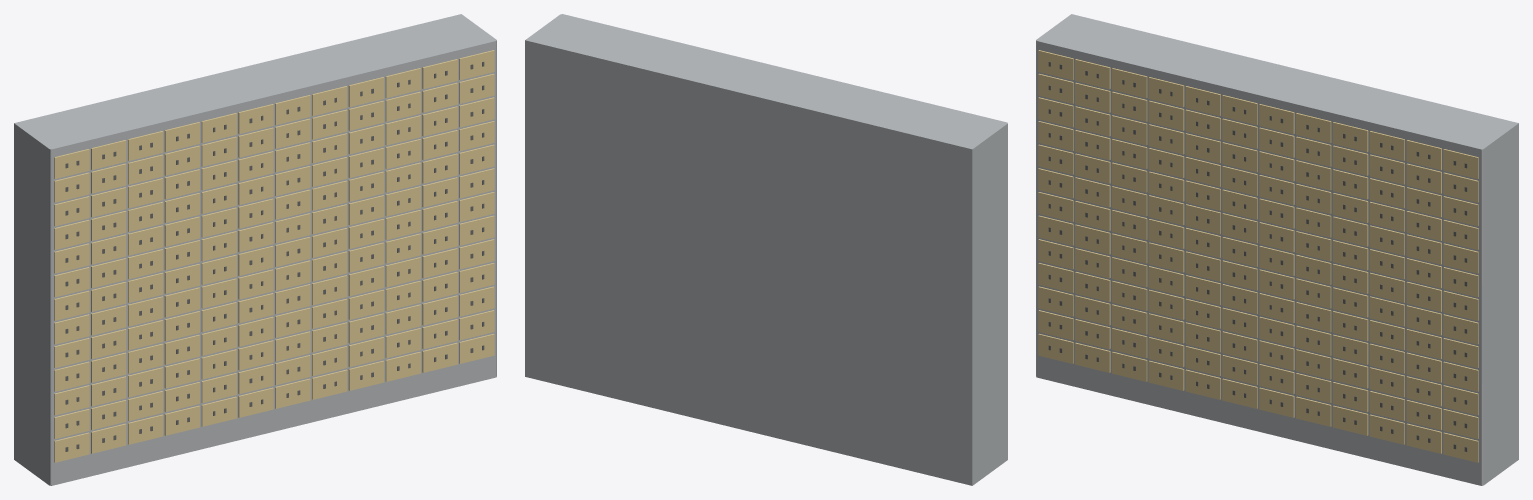
File: deposit_boxes.glb
3 renders of one model, left to right at view 1: azimuth 30°, elevation 25°; view 2: azimuth 150°, elevation 25°; view 3: azimuth 330°, elevation 25°, orthographic.
Visible parts, largest first — view 1: deposit_boxes_brass, deposit_boxes_vault, deposit_boxes_dark; view 2: deposit_boxes_vault; view 3: deposit_boxes_brass, deposit_boxes_vault, deposit_boxes_dark.
Part boxes in pixels (x1=…): deposit_boxes_brass: x1=54, y1=50, x2=494, y2=462; deposit_boxes_vault: x1=14, y1=14, x2=496, y2=485; deposit_boxes_dark: x1=65, y1=61, x2=484, y2=451; deposit_boxes_vault: x1=525, y1=14, x2=1007, y2=485; deposit_boxes_brass: x1=1038, y1=50, x2=1478, y2=462; deposit_boxes_vault: x1=1036, y1=14, x2=1518, y2=485; deposit_boxes_dark: x1=1048, y1=61, x2=1467, y2=451.
Bounding box in the file's own units: 3.2 × 2.3 × 0.464.
